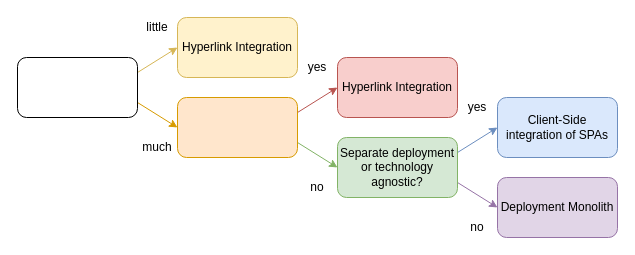
Some shapes in this 635 by 255 pixel diagram are drawn without their labels. Each missing label, with the centre of its shape:
Lagacy Apps or strong isolation?: the point at 237,127
Shared state or navigation between apps: the point at 77,87
